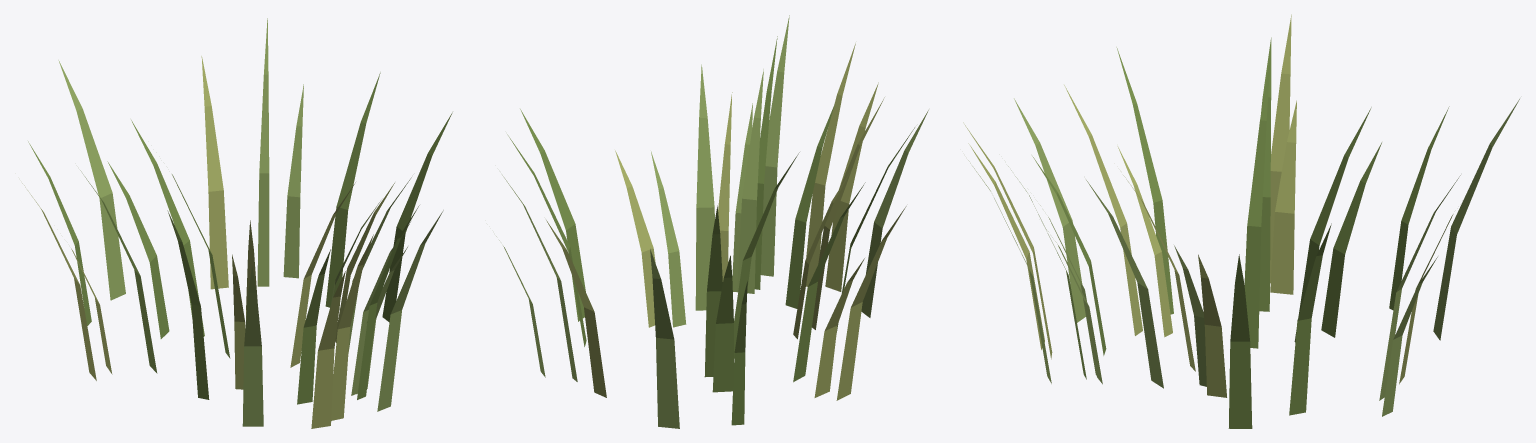
Rendered from SM_WL_NG_GrassLarge.fbx.
3 renders of one model, left to right at view 1: azimuth 30°, elevation 25°; view 2: azimuth 150°, elevation 25°; view 3: azimuth 270°, elevation 25°, orthographic. The views are drawn at different scales.
Visible parts, largest first — view 1: HH_Q2_GrassLarge; view 2: HH_Q2_GrassLarge; view 3: HH_Q2_GrassLarge.
Boxes of the visible parts, x1,y1,x2,y2 form: HH_Q2_GrassLarge: [22, 18, 452, 428]; HH_Q2_GrassLarge: [496, 15, 928, 428]; HH_Q2_GrassLarge: [963, 14, 1519, 428].
Bounding box in the file's own units: 1.11 × 1.01 × 0.5462.
